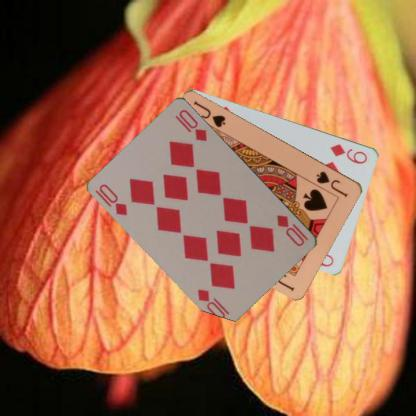10d: (274, 212, 310, 248), (96, 181, 129, 217)
9d: (328, 140, 369, 166)
Js: (314, 168, 350, 199)
